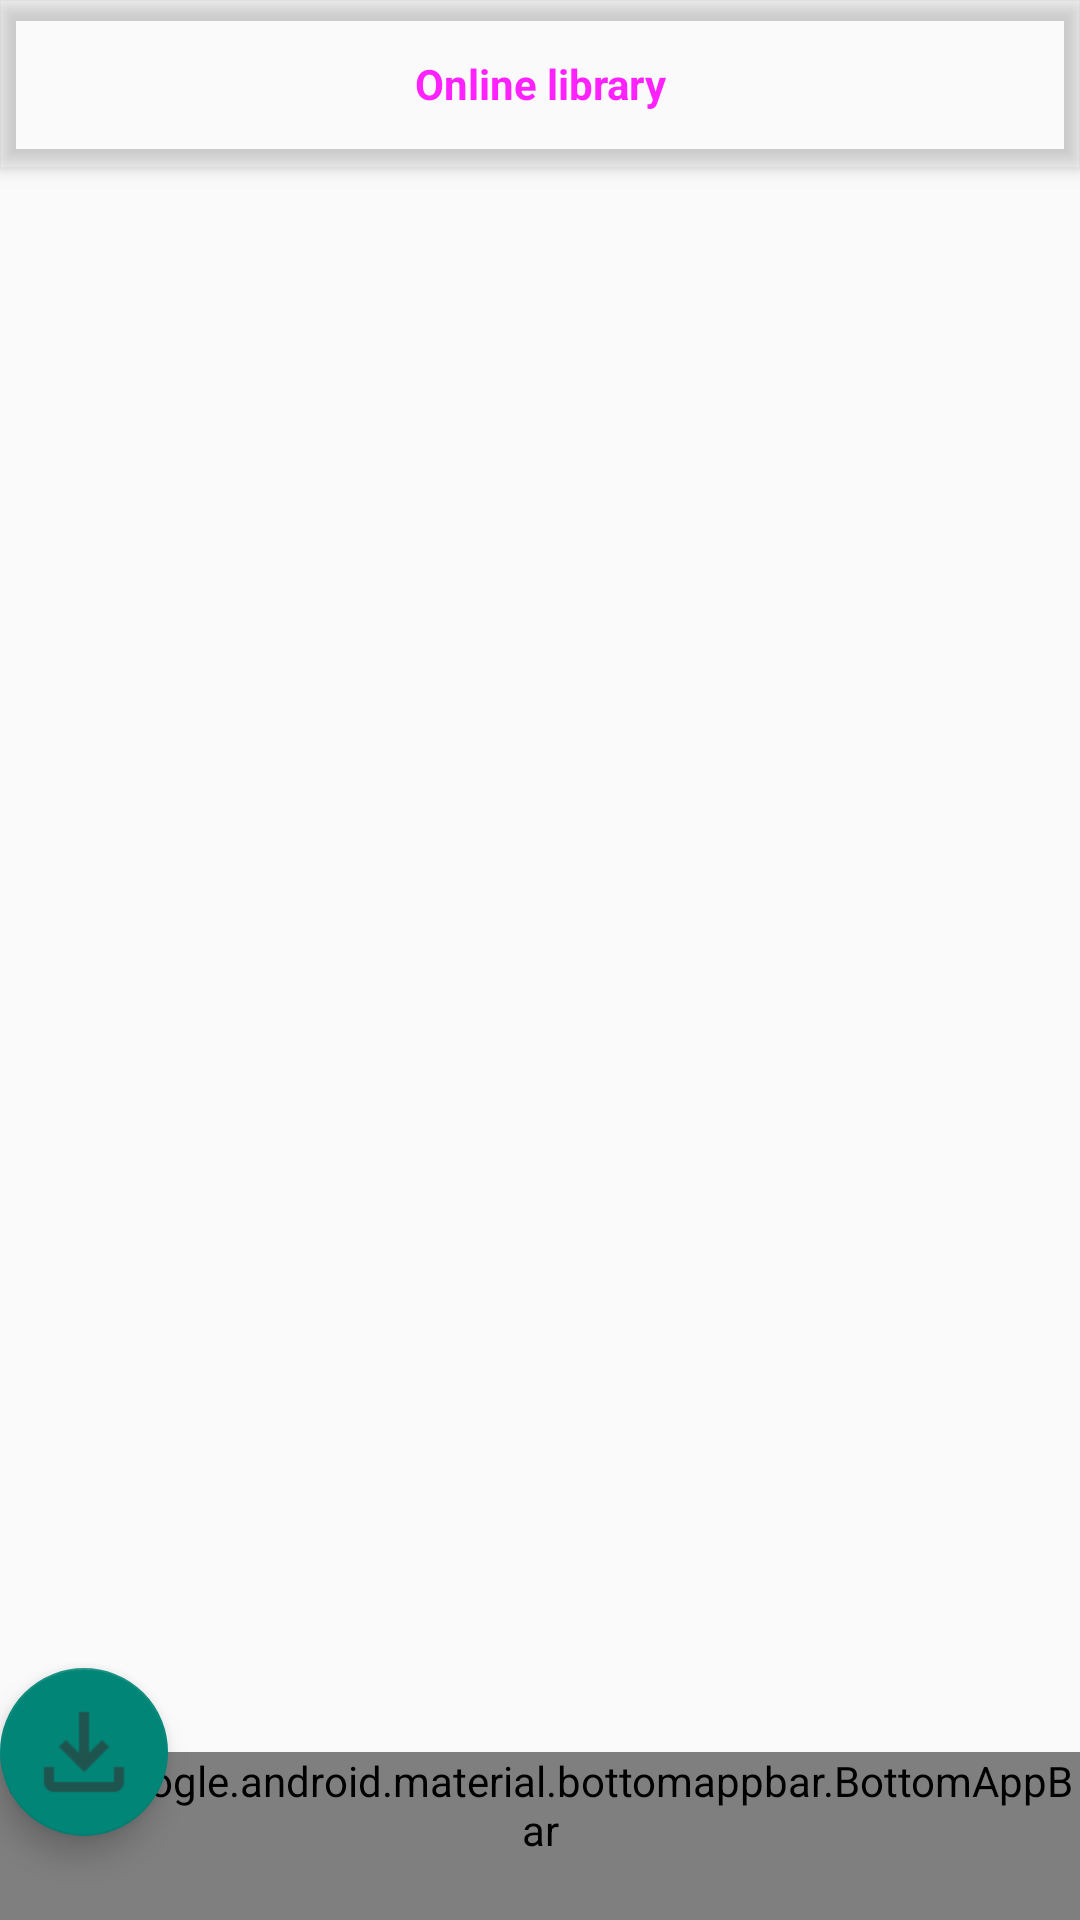

Named icons in this screenshot (1080px×1920px) and their centers, (x,y):
file download: (84,1752)
